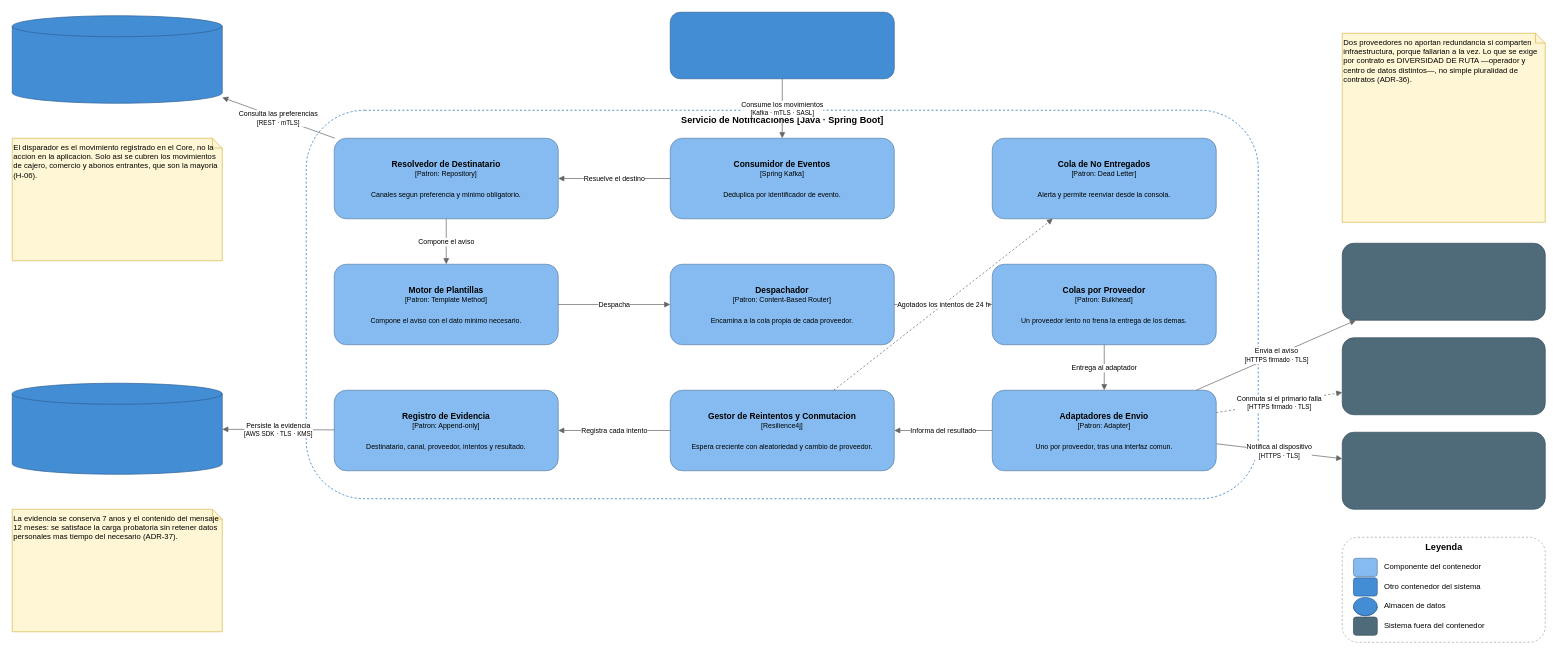
The diagram is 1558 pixels wide and 655 high, and some of its shapes have lost their labels. Each missing label, with the centre of its shape:
"Bus de eventos [Amazon MSK] Movimientos del Core y del canal" belongs at [782,45].
"Evidencia [S3 con Object Lock] 7 anos de carga probatoria" belongs at [117,428].
"Preferencias [Contenedor vecino] Canales elegidos por el cliente" belongs at [117,59].
"Proveedor alternativo [Sistema externo] Ruta independiente del primario" belongs at [1443,376].
"Proveedor primario [Sistema externo] Mensaje corto y correo" belongs at [1443,281].
"Servicios push [Sistemas externos]" belongs at [1443,470].
